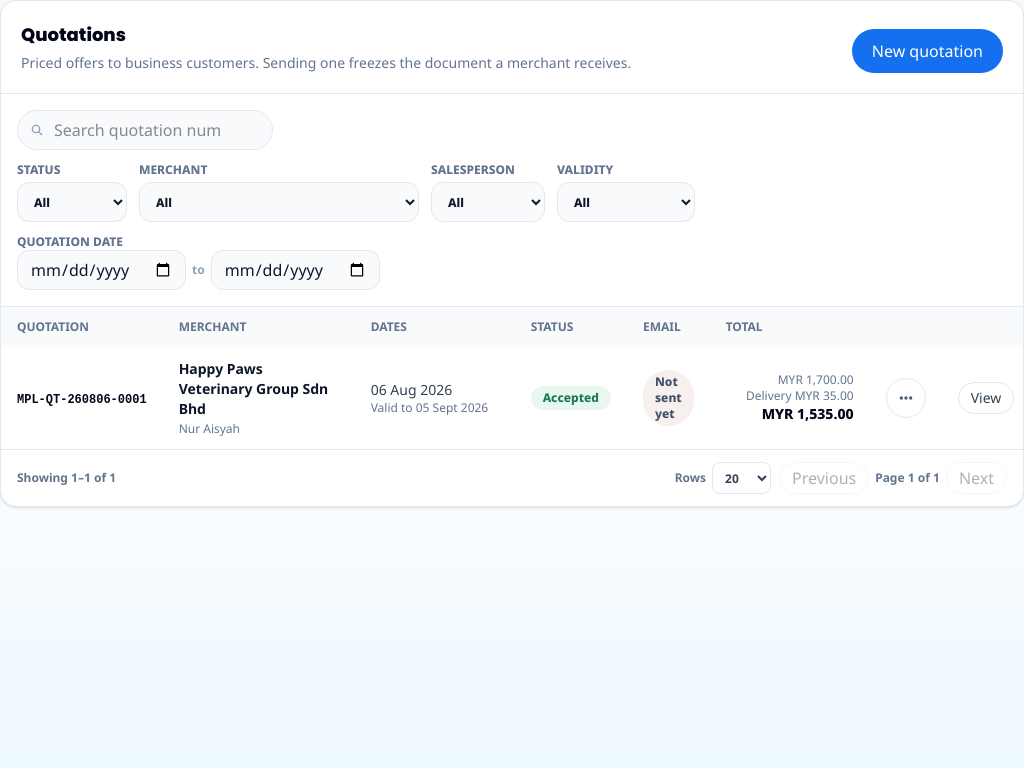
Test case: Quotation lifecycle › offers Convert only once accepted
Click the button named "Actions for MPL-QT-260806-0001".
click(906, 398)  # box [886,378,926,418]
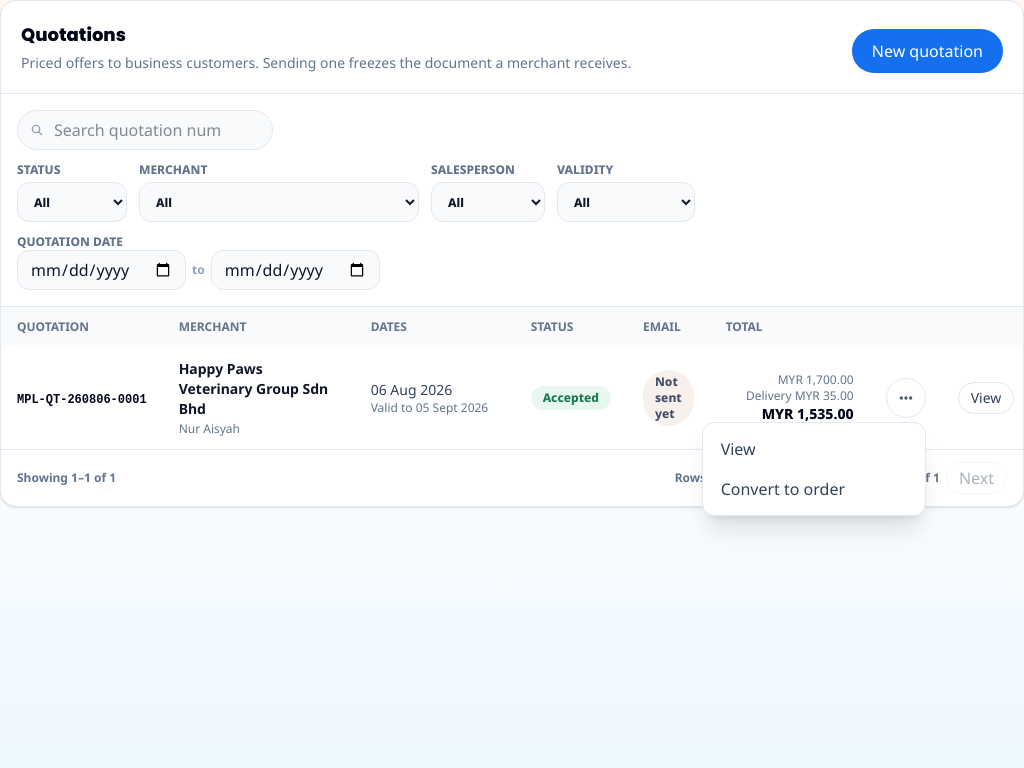
Expected: the menu item "Convert to order" is shown, [709,469,919,509]
